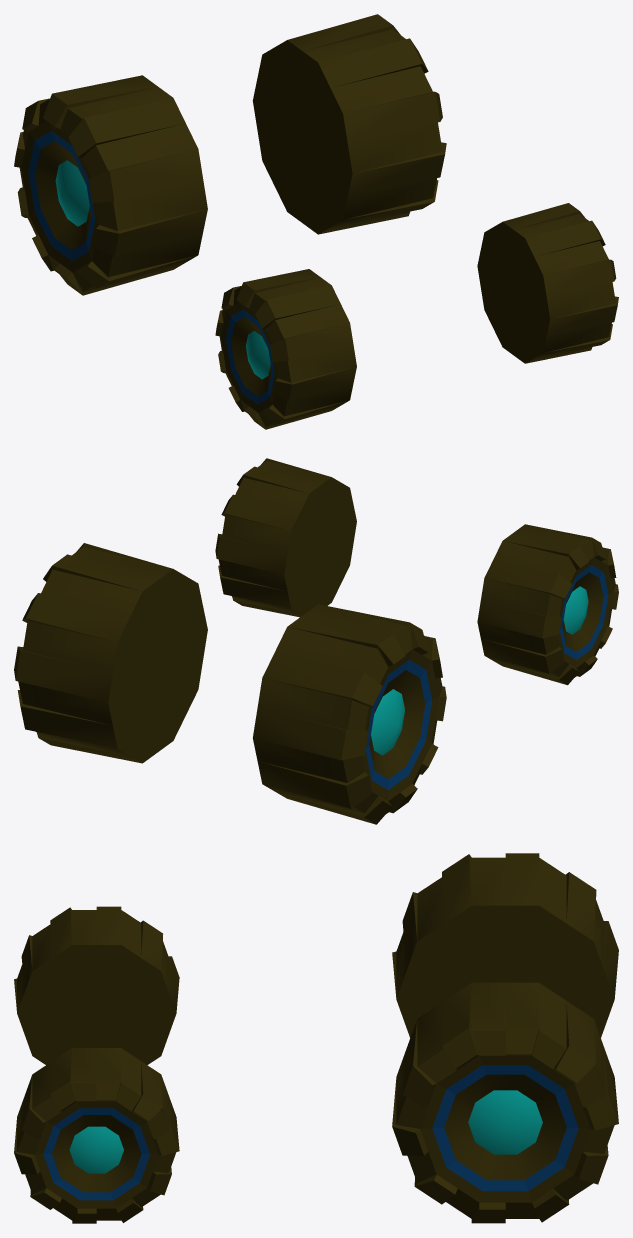
The model's file is TankWheel01C04.gltf.
The picture shows the model from 3 angles, top to bottom: view 1: azimuth 30°, elevation 25°; view 2: azimuth 150°, elevation 25°; view 3: azimuth 270°, elevation 25°; orthographic projection. The views are drawn at different scales.
Parts seen in each view (by area): view 1: TankWheel01C04; view 2: TankWheel01C04; view 3: TankWheel01C04.
Part boxes in pixels (left/top/right/bottom): TankWheel01C04: left=14, top=14, right=618, bottom=429; TankWheel01C04: left=14, top=458, right=618, bottom=824; TankWheel01C04: left=14, top=853, right=618, bottom=1223.
Size of the model in its own units: 0.2062 by 0.101 by 0.2814.
